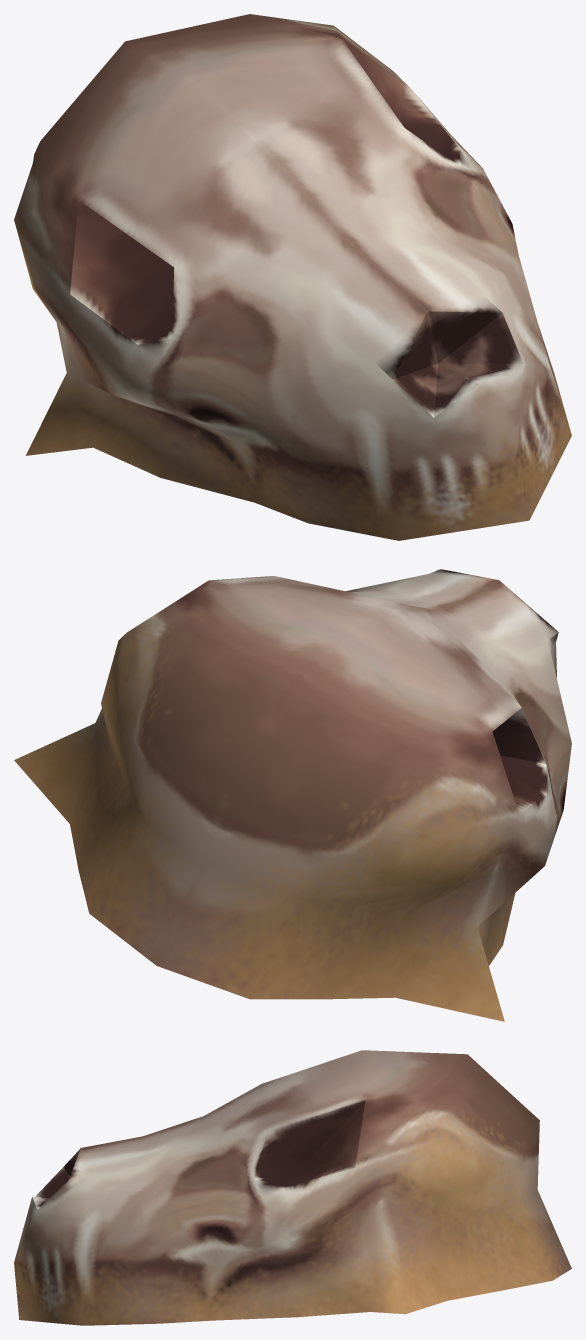
The model's file is gutou01.FBX.
3 views of the same model, one above another, from view 1: azimuth 30°, elevation 25°; view 2: azimuth 150°, elevation 25°; view 3: azimuth 270°, elevation 25° (orthographic). The views are drawn at different scales.
Visible parts, largest first — view 1: gutou01; view 2: gutou01; view 3: gutou01.
Boxes of the visible parts, x1,y1,x2,y2 form: gutou01: [14, 14, 571, 540]; gutou01: [14, 569, 571, 1021]; gutou01: [14, 1050, 571, 1325].
Size of the model in its own units: 129 by 91.74 by 172.
